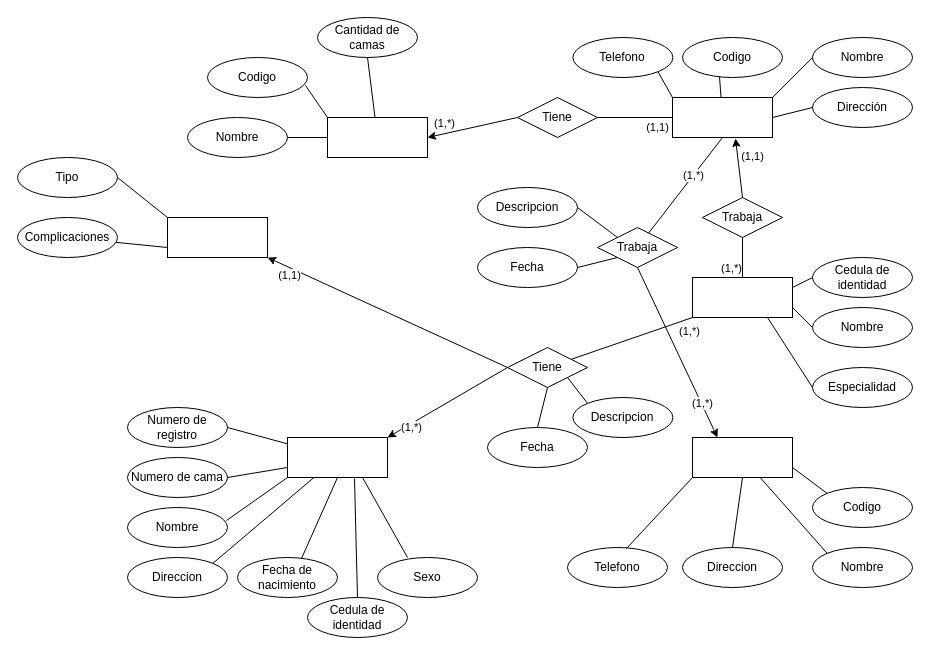
Some shapes in this 930 by 655 pixel diagram are drawn without their labels. Each missing label, with the centre of its shape:
"Diagnostico" goes at point 217,237.
"Hospital" goes at point 722,117.
"Laboratorio" goes at point 742,457.
"Medico" goes at point 742,297.
"Paciente" goes at point 337,457.
"Sala" goes at point 377,137.
